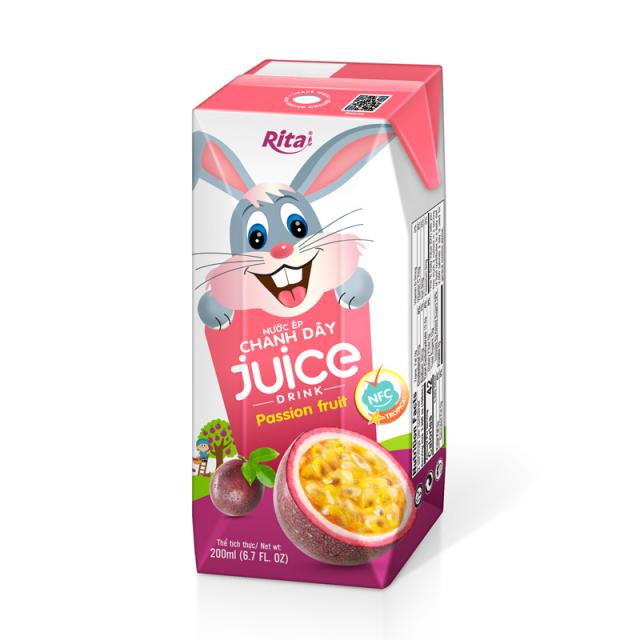non_white_jug: (169, 43, 467, 602)
